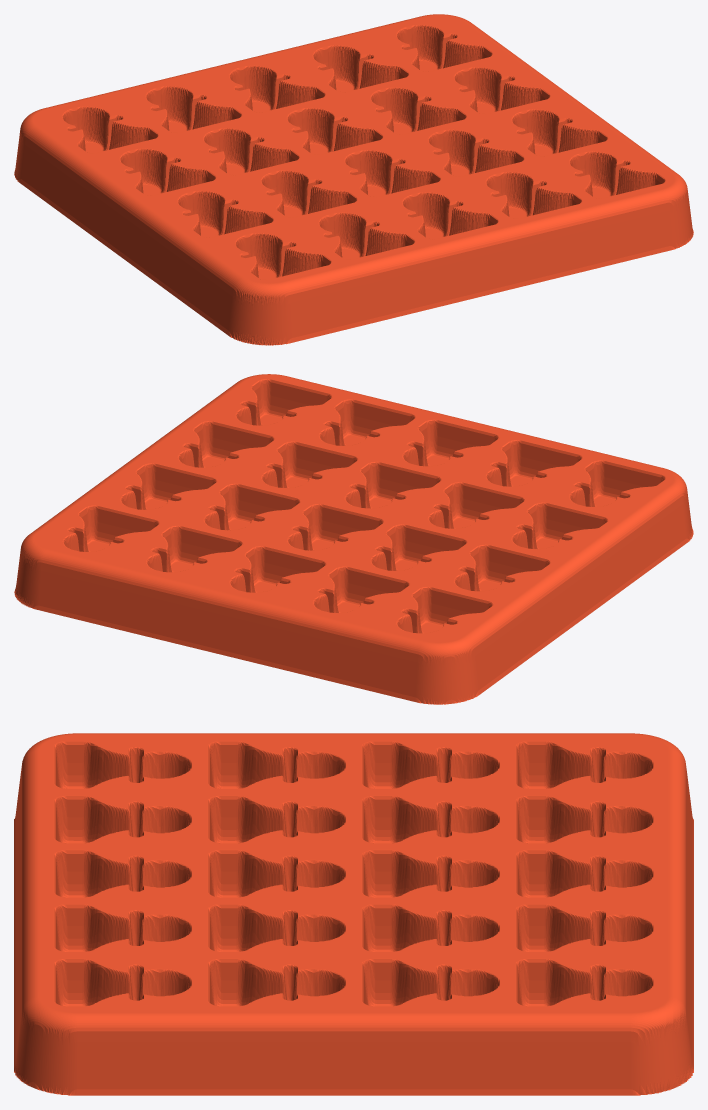
The model's file is mold.glb.
3 views of the same model, one above another, from view 1: azimuth 30°, elevation 25°; view 2: azimuth 150°, elevation 25°; view 3: azimuth 270°, elevation 25° (orthographic). The views are drawn at different scales.
Parts seen in each view (by area): view 1: geometry_0; view 2: geometry_0; view 3: geometry_0.
Part boxes in pixels (x1,y1,x2,y2): geometry_0: (14, 14, 693, 345); geometry_0: (14, 374, 693, 704); geometry_0: (14, 733, 693, 1095).
Size of the model in its own units: 0.1012 by 0.0114 by 0.0972.
